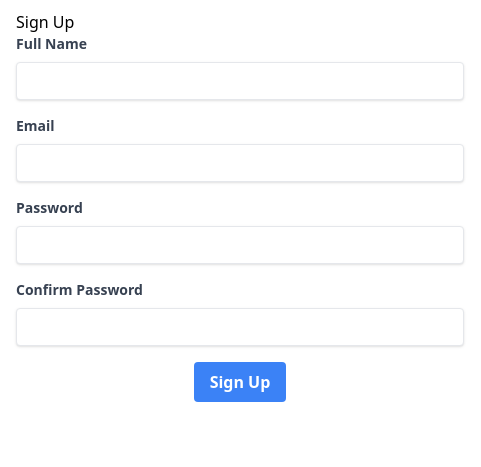
it: SignUpForm › validates confirm password
Step 1. Type "password123" into the password field with test id "password" → point(240, 245), box [16,226,464,264]
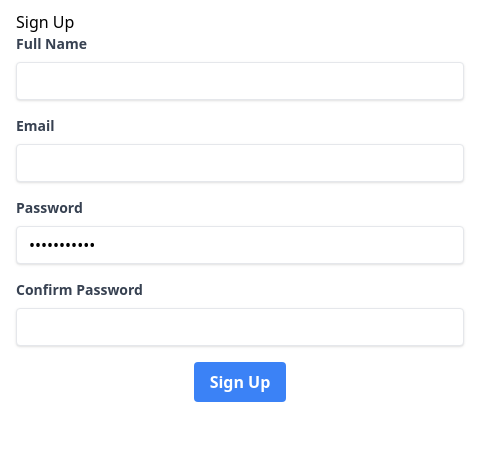
Step 2. Type "password456" into the password field with test id "confirmPassword" → point(240, 327), box [16,308,464,346]
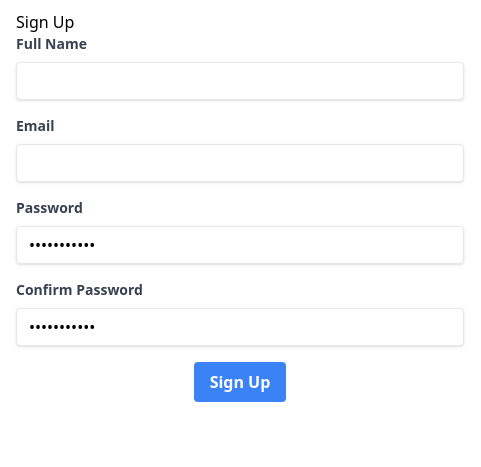
Step 3. Click the button with test id "signUpButton" → point(240, 382), box [194,362,286,402]
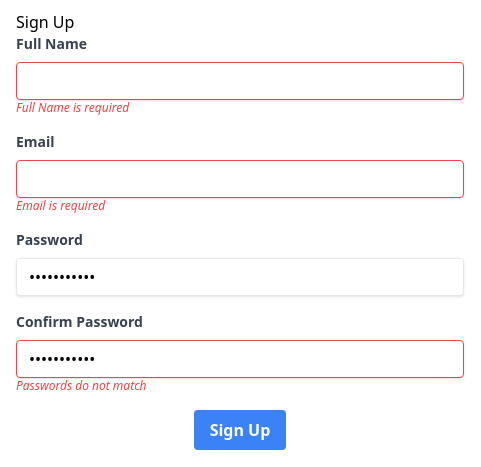
Expected: the text "Passwords do not match" is shown, [16,377,146,394]
